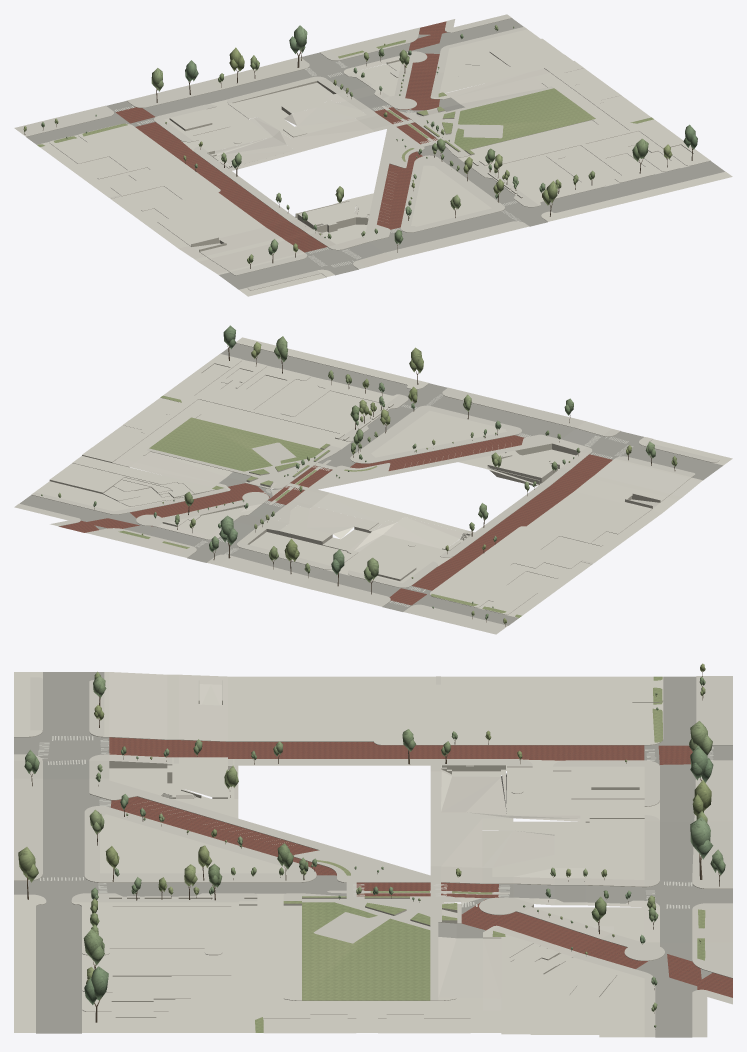
File: urban-near.glb
3 renders of one model, top to bottom at view 1: azimuth 30°, elevation 25°; view 2: azimuth 150°, elevation 25°; view 3: azimuth 270°, elevation 25°, orthographic. The views are drawn at different scales.
Parts seen in each view (by area): view 1: District ground · ground, Sidewalks and crossings · walk, Street pavement · road, Brick pavement · brick, Low planting · plant, Street trees | deciduous canopy and branches, Modeled curb risers · curbs, Street markings · markings; view 2: District ground · ground, Sidewalks and crossings · walk, Street pavement · road, Brick pavement · brick, Low planting · plant, Street trees | deciduous canopy and branches, Modeled curb risers · curbs, Street markings · markings; view 3: District ground · ground, Sidewalks and crossings · walk, Street pavement · road, Brick pavement · brick, Low planting · plant, Street trees | deciduous canopy and branches, Modeled curb risers · curbs, Street markings · markings.
Boxes of the visible parts, left/top/right/bottom form: District ground · ground: left=37, top=29, right=732, bottom=296; Sidewalks and crossings · walk: left=14, top=14, right=553, bottom=290; Street pavement · road: left=26, top=18, right=724, bottom=289; Brick pavement · brick: left=116, top=21, right=446, bottom=252; Low planting · plant: left=37, top=40, right=653, bottom=161; Street trees | deciduous canopy and branches: left=23, top=25, right=697, bottom=268; Modeled curb risers · curbs: left=26, top=18, right=710, bottom=290; Street markings · markings: left=115, top=61, right=520, bottom=267; District ground · ground: left=35, top=337, right=732, bottom=617; Sidewalks and crossings · walk: left=14, top=387, right=719, bottom=634; Street pavement · road: left=20, top=343, right=722, bottom=625; Brick pavement · brick: left=59, top=435, right=612, bottom=605; Low planting · plant: left=118, top=395, right=521, bottom=617; Street trees | deciduous canopy and branches: left=41, top=325, right=677, bottom=626; Modeled curb risers · curbs: left=32, top=343, right=719, bottom=614; Street markings · markings: left=195, top=394, right=633, bottom=606; District ground · ground: left=14, top=672, right=663, bottom=1037; Sidewalks and crossings · walk: left=14, top=676, right=732, bottom=1037; Street pavement · road: left=14, top=672, right=732, bottom=1037; Brick pavement · brick: left=109, top=737, right=732, bottom=997; Low planting · plant: left=255, top=676, right=705, bottom=1032; Street trees | deciduous canopy and branches: left=18, top=663, right=725, bottom=1027; Modeled curb risers · curbs: left=14, top=700, right=732, bottom=1018; Street markings · markings: left=38, top=736, right=713, bottom=908.
Size of the model in its own units: 259 by 23.78 by 216.
9 materials, 3 textured.
